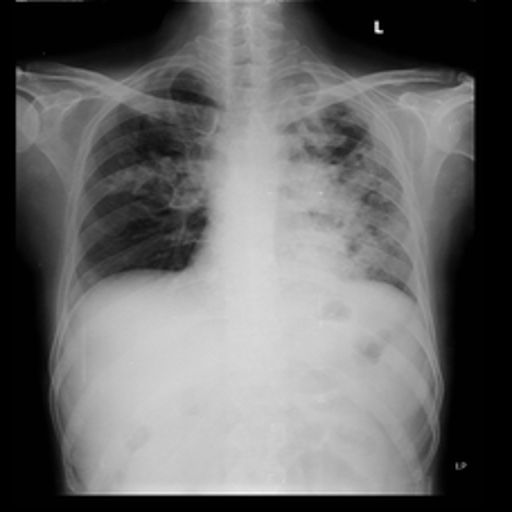TB: (294, 101, 401, 269), (113, 113, 213, 211)
